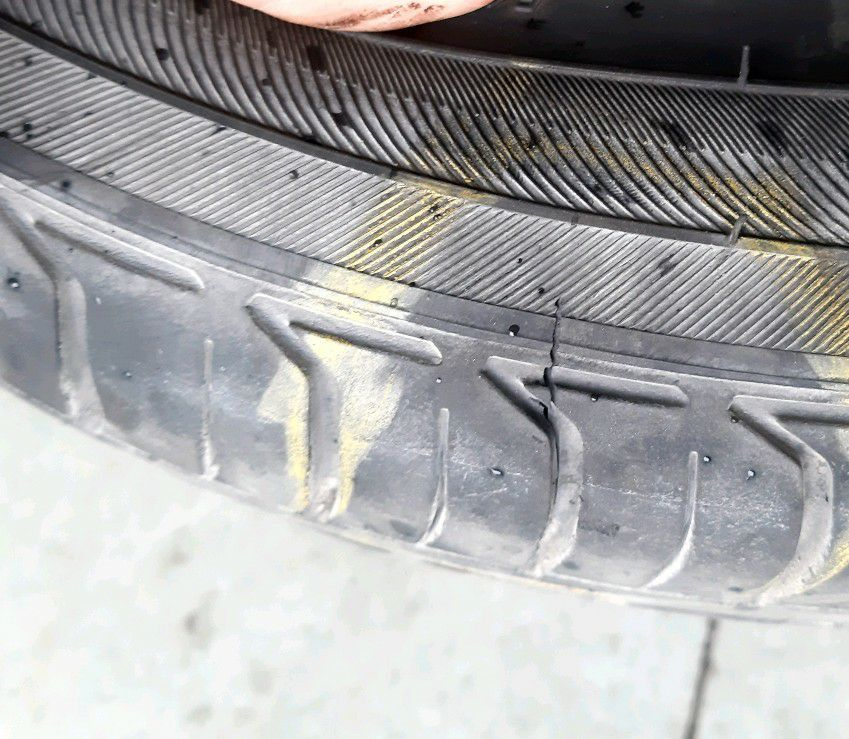cut: (542, 294, 563, 406)
